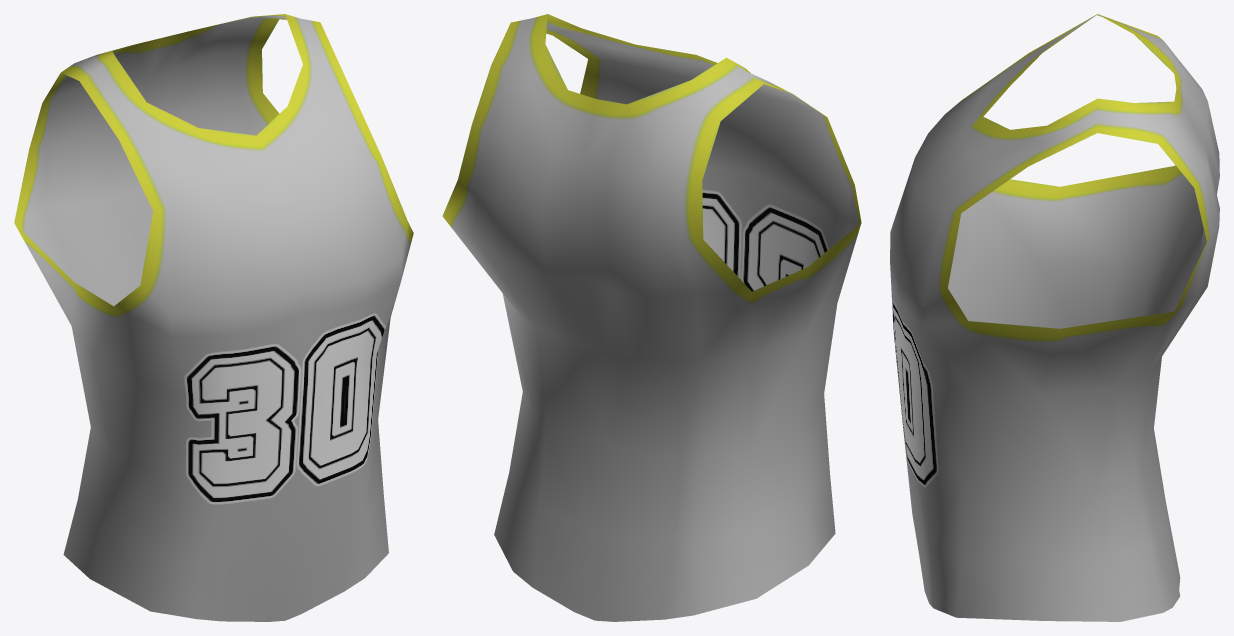
The model's file is male_jersey_shirt.fbx.
3 renders of one model, left to right at view 1: azimuth 30°, elevation 25°; view 2: azimuth 150°, elevation 25°; view 3: azimuth 270°, elevation 25°, orthographic. The views are drawn at different scales.
Visible parts, largest first — view 1: male_character.stylistic.shirt; view 2: male_character.stylistic.shirt; view 3: male_character.stylistic.shirt.
Part boxes in pixels (x1,y1,x2,y2): male_character.stylistic.shirt: (14,14,413,621); male_character.stylistic.shirt: (442,14,861,621); male_character.stylistic.shirt: (890,14,1219,621).
Bounding box in the file's own units: 90.39 × 53.72 × 50.58.
